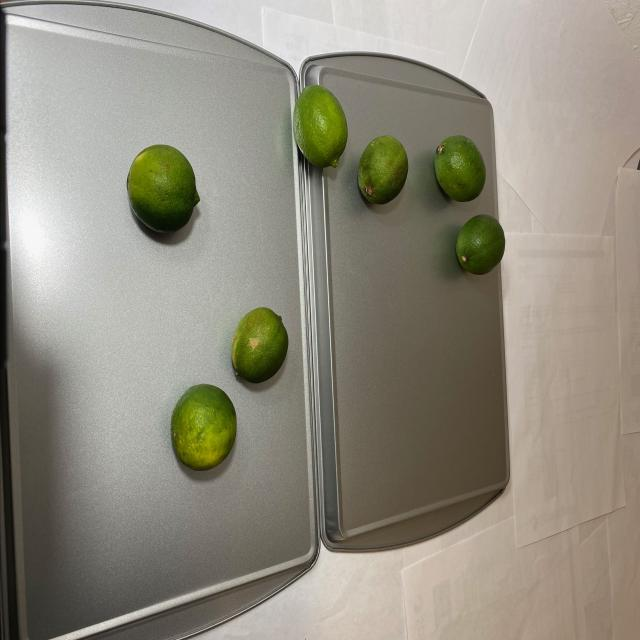lemon: (289, 82, 511, 274), (170, 304, 292, 483), (120, 144, 205, 240)
